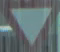Give way: (4, 4, 58, 49)
